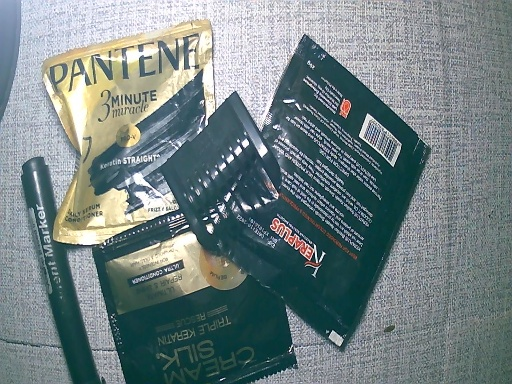plastic: (273, 27, 437, 314), (35, 20, 222, 242), (209, 251, 359, 384), (98, 212, 209, 384)
trash: (19, 156, 98, 384), (164, 95, 278, 252)
